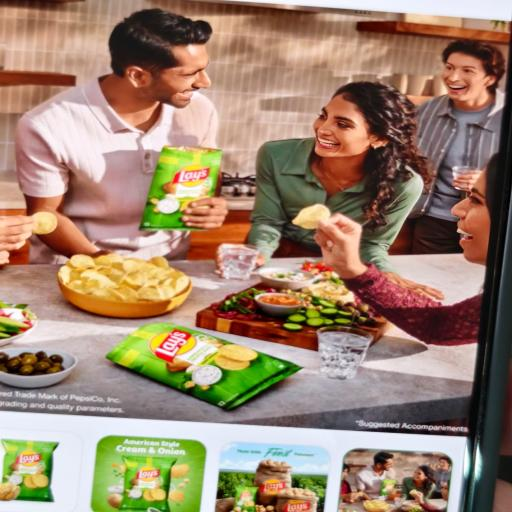green_chips: (107, 323, 300, 409), (140, 147, 221, 230)
